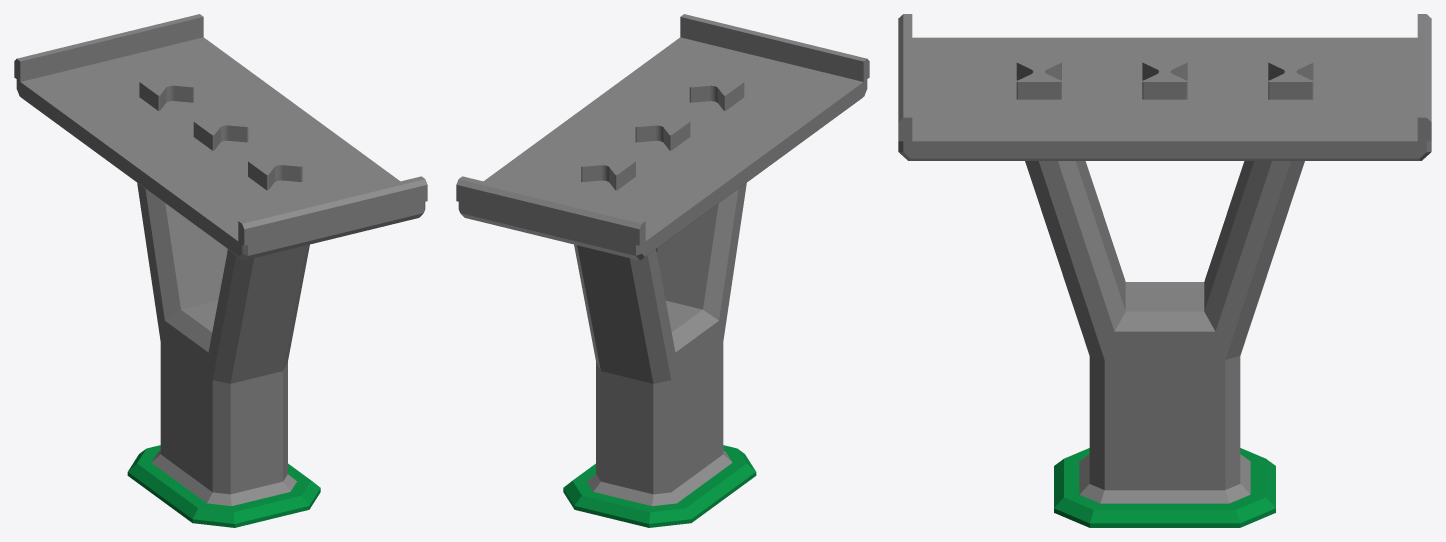
The model's file is 5x5 Grass Beam 5mm.obj.
3 renders of one model, left to right at view 1: azimuth 30°, elevation 25°; view 2: azimuth 150°, elevation 25°; view 3: azimuth 270°, elevation 25°, orthographic. The views are drawn at different scales.
Parts seen in each view (by area): view 1: Körper1, Körper1:1, Körper1:2; view 2: Körper1, Körper1:1, Körper1:2; view 3: Körper1, Körper1:1, Körper1:2.
Part boxes in pixels (bbox=[...]): Körper1: bbox=[14, 14, 427, 260]; Körper1:1: bbox=[137, 183, 309, 506]; Körper1:2: bbox=[127, 445, 320, 527]; Körper1: bbox=[456, 14, 869, 260]; Körper1:1: bbox=[574, 183, 746, 506]; Körper1:2: bbox=[563, 445, 756, 527]; Körper1: bbox=[898, 14, 1431, 160]; Körper1:1: bbox=[1025, 161, 1304, 503]; Körper1:2: bbox=[1054, 448, 1275, 527].
Bounding box in the file's own units: 48.77 × 93 × 106.
